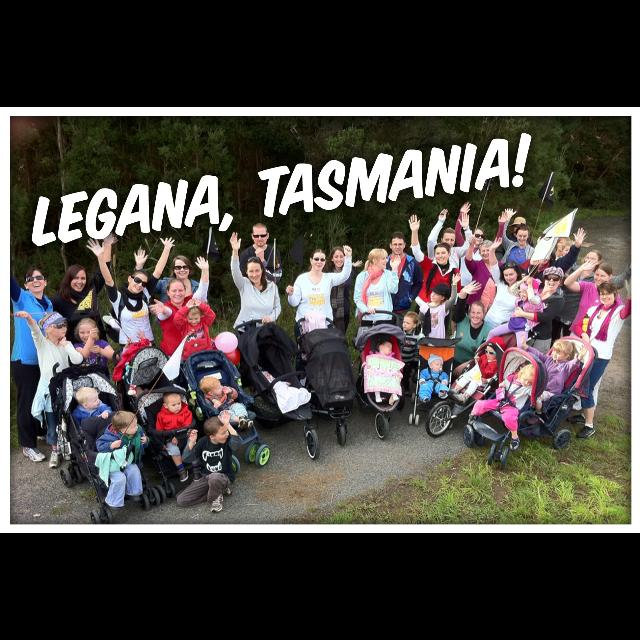head: (112, 410, 138, 436), (204, 418, 230, 444), (42, 312, 68, 338), (24, 266, 48, 294), (68, 264, 88, 294), (76, 318, 98, 344), (76, 388, 100, 410), (246, 257, 264, 285), (128, 270, 148, 294), (551, 341, 573, 362), (200, 377, 223, 397), (163, 392, 183, 414), (486, 338, 506, 360), (369, 248, 389, 270), (594, 263, 612, 287), (545, 268, 563, 292), (502, 261, 520, 285), (252, 223, 270, 247), (173, 256, 191, 280), (468, 302, 486, 324), (389, 233, 407, 255), (584, 250, 602, 272), (520, 364, 536, 388), (600, 282, 616, 306), (479, 240, 496, 262), (520, 282, 538, 302), (402, 312, 420, 332), (435, 244, 451, 266), (515, 224, 531, 246), (330, 247, 346, 269), (310, 250, 326, 272), (185, 306, 202, 326), (442, 228, 456, 248), (429, 287, 446, 303), (471, 227, 485, 246), (428, 356, 444, 372), (537, 248, 553, 264), (378, 340, 392, 356), (514, 221, 526, 235)
person: (85, 235, 177, 428), (44, 228, 118, 440), (0, 239, 58, 465), (133, 248, 210, 414), (564, 276, 640, 440), (147, 256, 211, 434), (14, 310, 84, 470), (562, 257, 626, 413), (229, 231, 283, 413), (407, 214, 463, 386), (517, 226, 587, 362), (286, 245, 352, 388), (478, 236, 530, 412), (454, 201, 511, 361), (426, 208, 476, 376), (513, 266, 565, 412), (377, 232, 425, 382), (175, 409, 242, 515), (352, 248, 402, 388), (72, 317, 120, 458), (238, 222, 284, 366), (468, 363, 542, 452), (449, 280, 496, 418), (414, 273, 464, 402), (520, 333, 588, 427), (483, 276, 545, 374), (464, 234, 508, 370), (95, 411, 152, 514), (498, 208, 540, 342), (318, 245, 357, 377), (173, 296, 217, 412), (156, 390, 204, 484), (446, 337, 506, 407), (70, 386, 118, 466), (502, 216, 536, 322), (198, 376, 254, 432), (395, 311, 427, 399), (368, 340, 400, 406), (418, 354, 450, 404)
